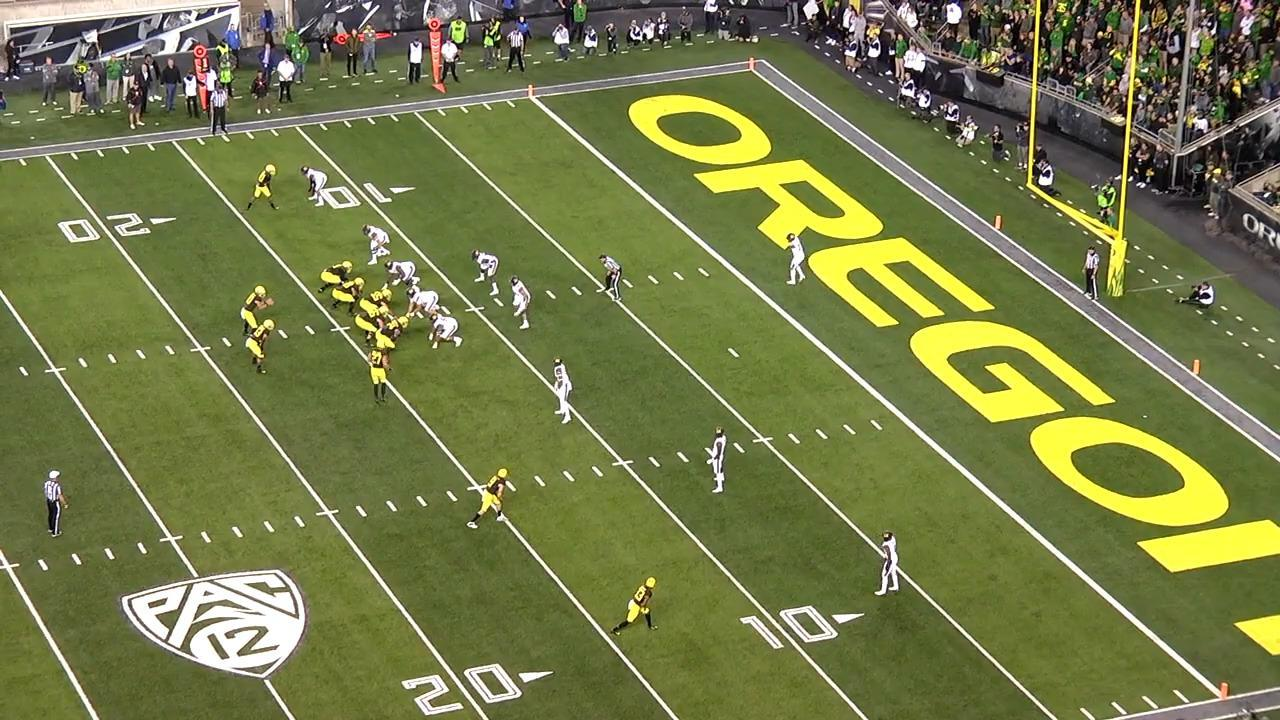defense: (875, 529, 907, 600), (703, 423, 732, 498), (550, 358, 578, 428), (405, 287, 449, 324), (472, 246, 503, 298), (506, 275, 532, 334), (426, 315, 466, 353), (386, 258, 425, 296), (784, 231, 808, 290), (299, 166, 329, 212), (362, 223, 392, 267)
oline: (317, 259, 354, 294), (331, 276, 366, 311), (375, 316, 410, 351), (360, 288, 393, 317), (354, 306, 389, 333)
qb: (238, 284, 273, 343)
ref: (42, 468, 71, 542), (596, 251, 624, 304), (1078, 243, 1101, 307), (207, 84, 231, 139)
skill: (607, 574, 661, 640), (468, 465, 516, 535), (248, 161, 282, 216), (366, 340, 394, 406), (249, 319, 276, 376)
